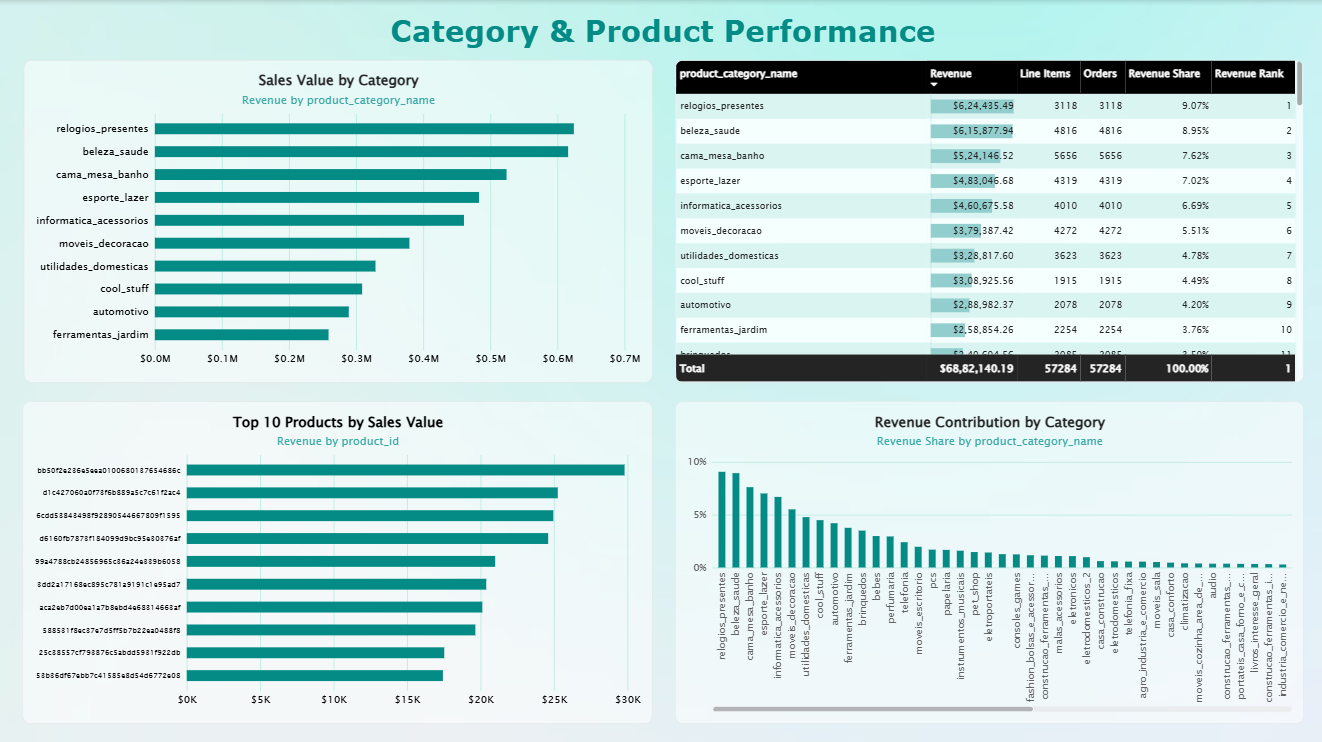

The dashboard page shown, as its layout file describes it:
{"tool":"powerbi","page":{"name":"Category & Product Performance","canvas":[1920,1080],"ordinal":1},"visuals":[{"type":"clusteredBarChart","title":"Sales Value by Category","fields":{"Category":["data.product_category_name"],"Y":["data.Revenue"]},"box":[35,87.5,910,467.5],"z":0},{"type":"clusteredBarChart","title":"Top 10 Products by Sales Value","fields":{"Category":["data.product_id"],"Y":["data.Revenue"]},"box":[32.5,581.5,912.1,466.9],"z":1000},{"type":"tableEx","fields":{"Values":["data.product_category_name","data.Revenue","data.Line Items","data.Orders","data.Revenue Share","data.Revenue Rank"]},"box":[977.1,87.5,910.3,466.9],"z":2000},{"type":"clusteredColumnChart","title":"Revenue Contribution by Category","fields":{"Category":["data.product_category_name"],"Y":["data.Revenue Share"]},"box":[977.1,581.5,910.3,466.9],"z":3000},{"type":"textbox","box":[0,18.1,1920.1,63.3],"z":4000}]}

Visuals, with their boxes in screenshot pixels (x1, y1, x2, y2), scaled from the page's 1920x1080 canvas onto the 1322x742 screenshot:
"Sales Value by Category" clusteredBarChart: [x1=24, y1=60, x2=651, y2=381]
"Top 10 Products by Sales Value" clusteredBarChart: [x1=22, y1=400, x2=650, y2=720]
tableEx - data.product_category_name x data.Revenue: [x1=673, y1=60, x2=1300, y2=381]
"Revenue Contribution by Category" clusteredColumnChart: [x1=673, y1=400, x2=1300, y2=720]
textbox: [x1=0, y1=12, x2=1321, y2=56]
